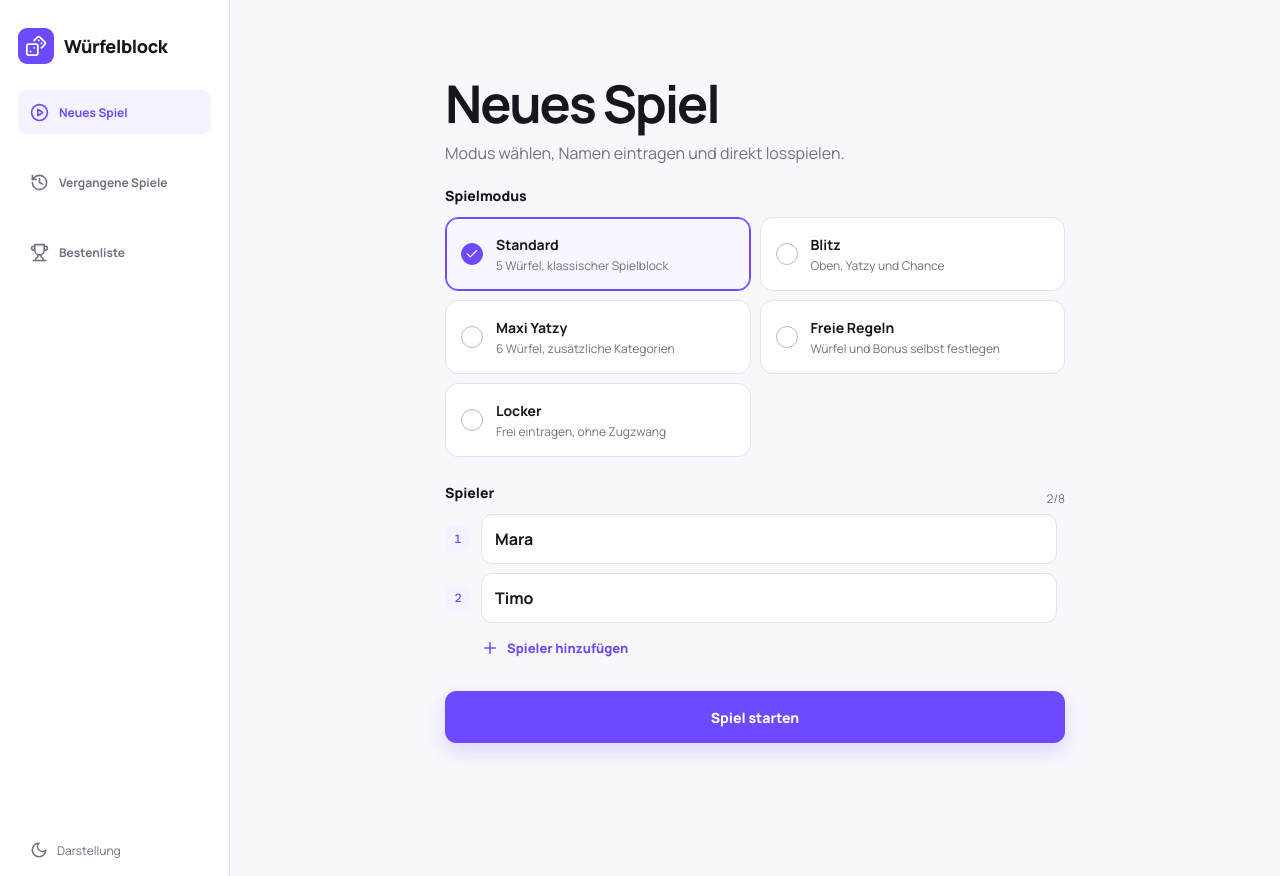
Test case: complete gameplay › accepts an arbitrary whole-number score for a pair
Click the button "Spiel starten". click: x=755, y=717
box: [445, 691, 1065, 743]
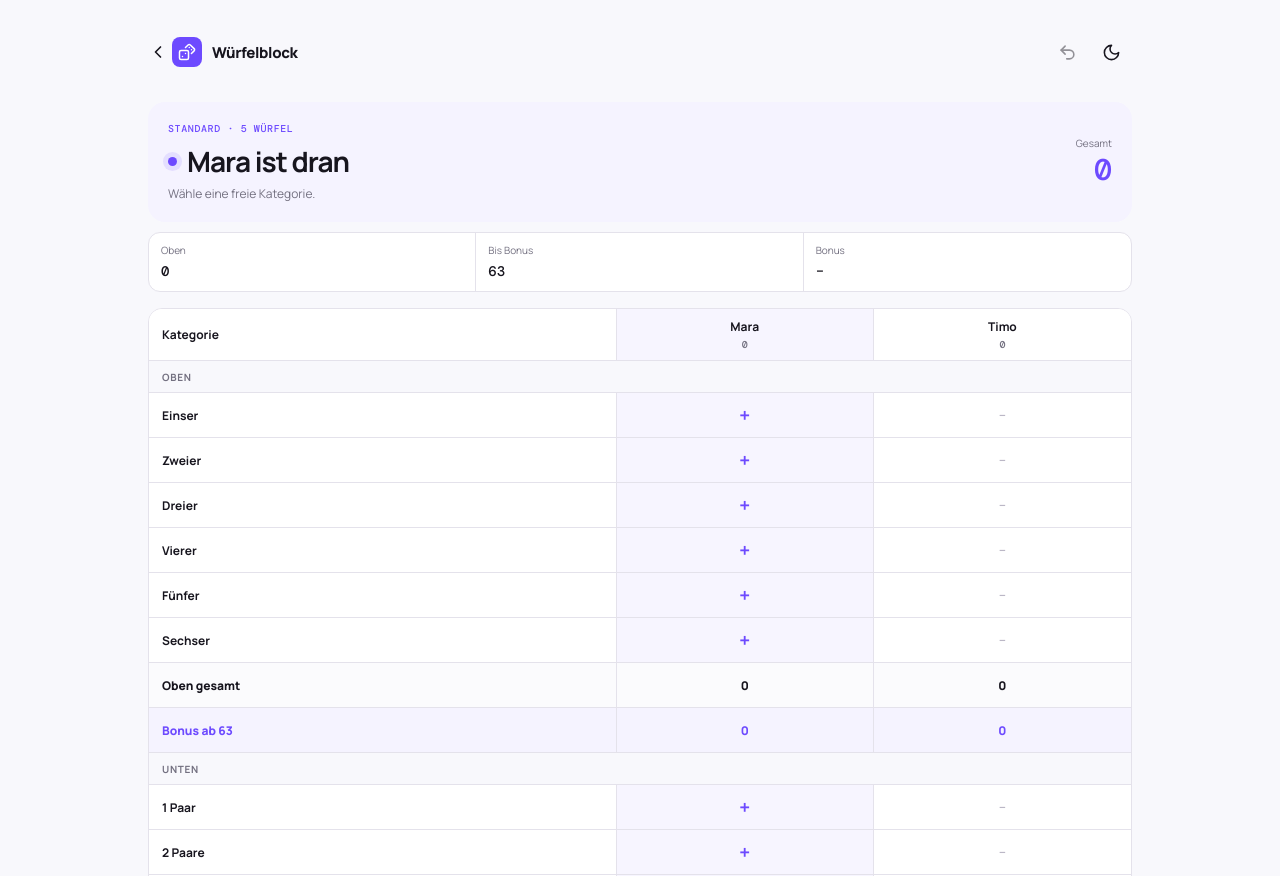
Click the button "+" in the row of "1 Paar". click: x=745, y=807
box: [617, 785, 873, 829]
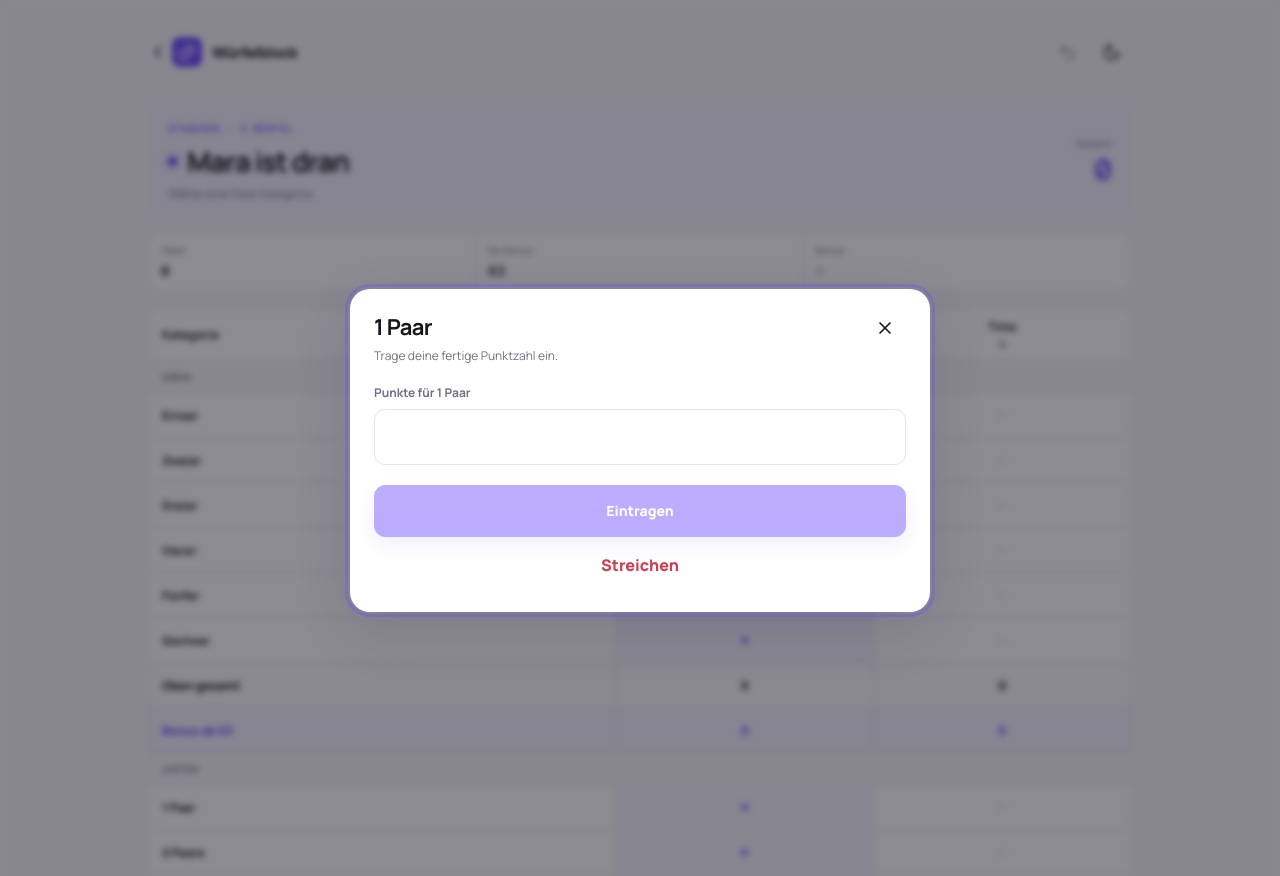
Type "137" into the number field labelled "Punkte für 1 Paar". click: x=640, y=436
box: [374, 408, 906, 464]
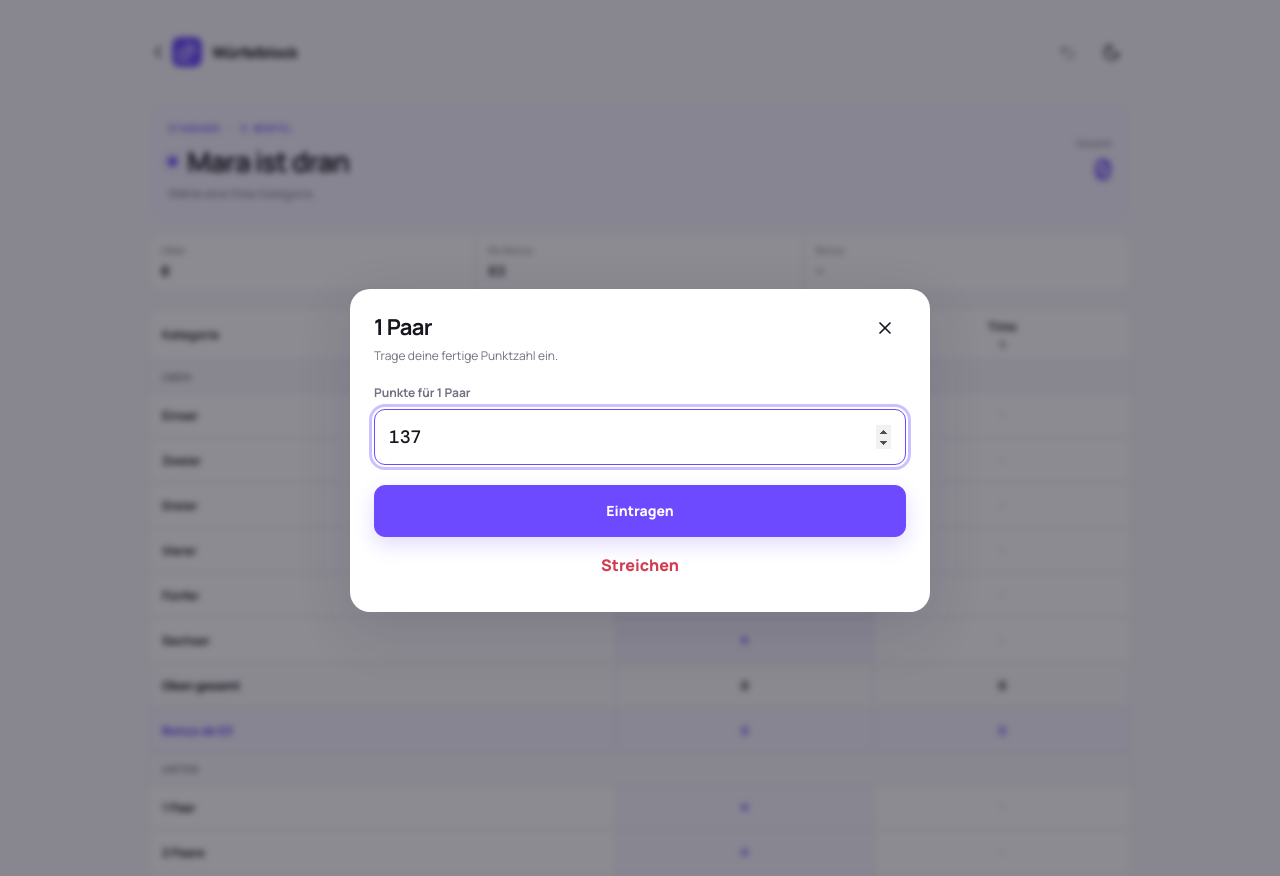
Click the button "Eintragen". click: x=640, y=510
box: [374, 484, 906, 536]
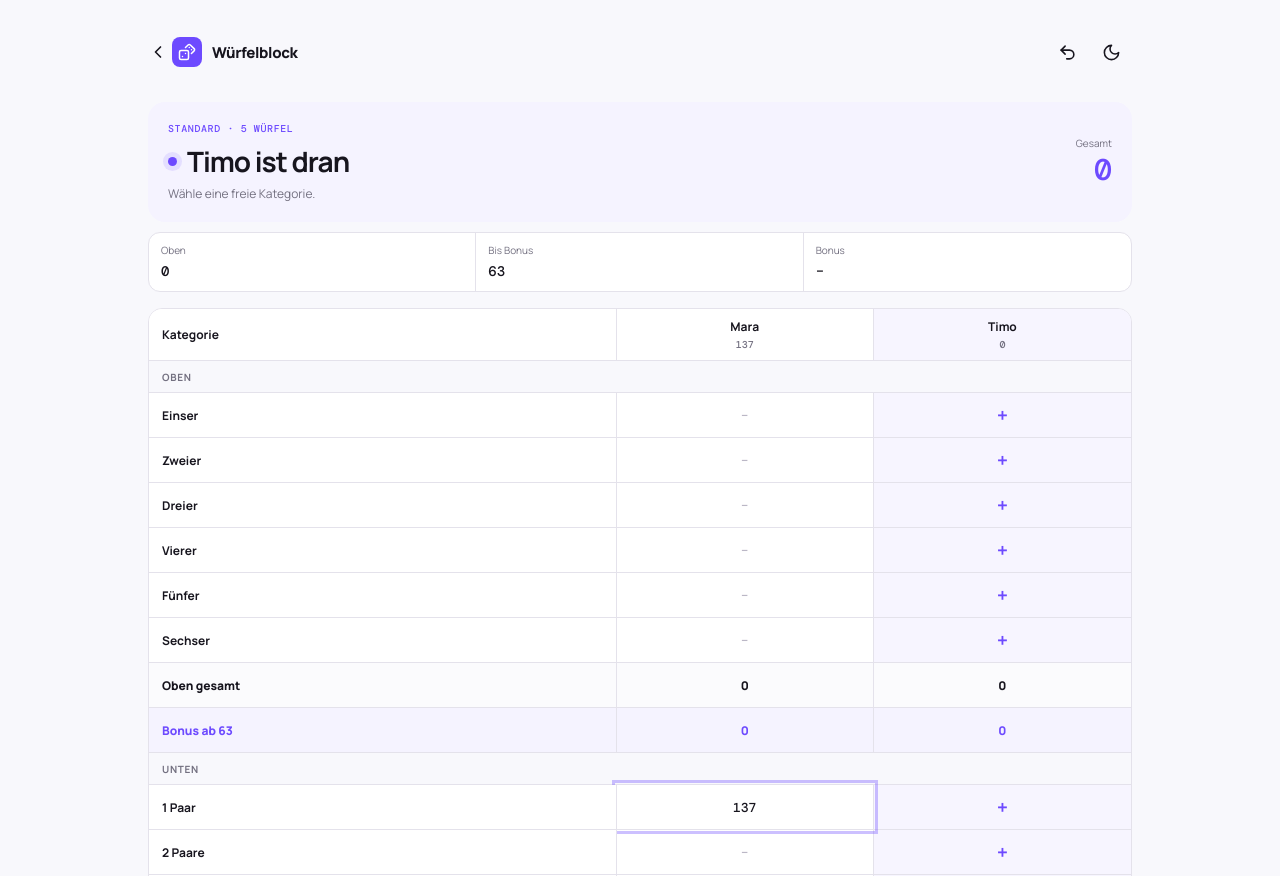
Check: the button "137" is shown, box [617, 785, 873, 829]
